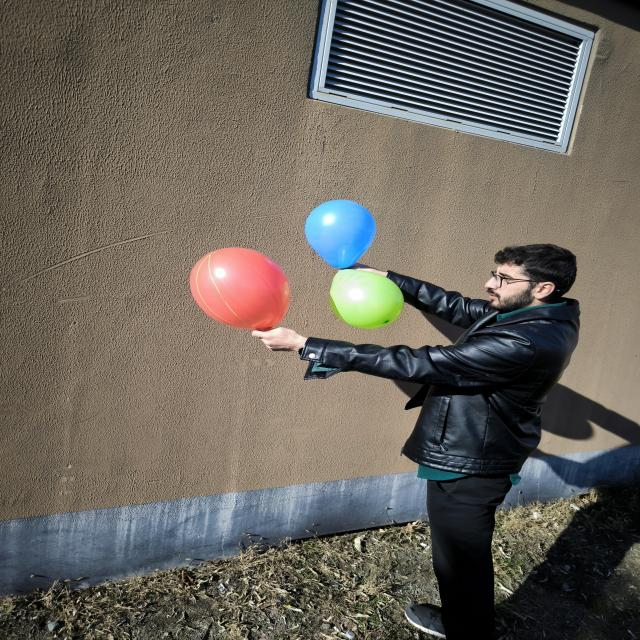balloon: (190, 248, 290, 331), (305, 200, 376, 269), (330, 269, 404, 329)
